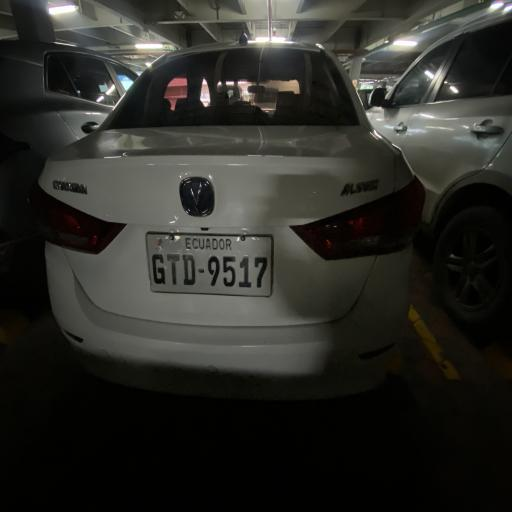license_plate: (150, 252, 167, 288), (181, 254, 197, 287), (222, 255, 238, 288), (167, 252, 182, 286), (206, 255, 221, 288), (238, 255, 252, 289), (254, 256, 268, 288)
